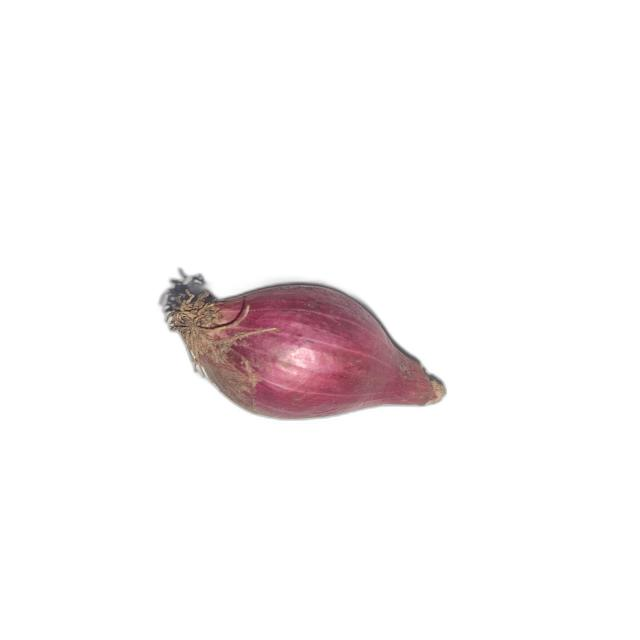onion: (168, 284, 448, 420)
